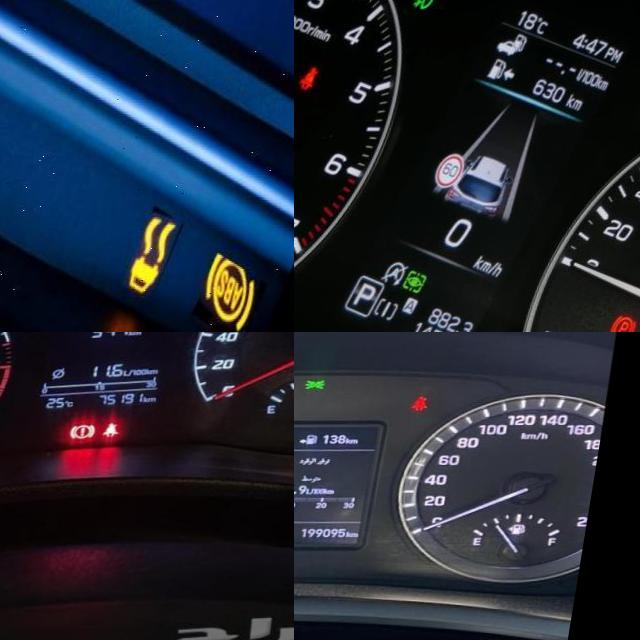Seat Belt: (304, 66, 325, 89), (117, 418, 133, 438), (420, 394, 436, 412)
